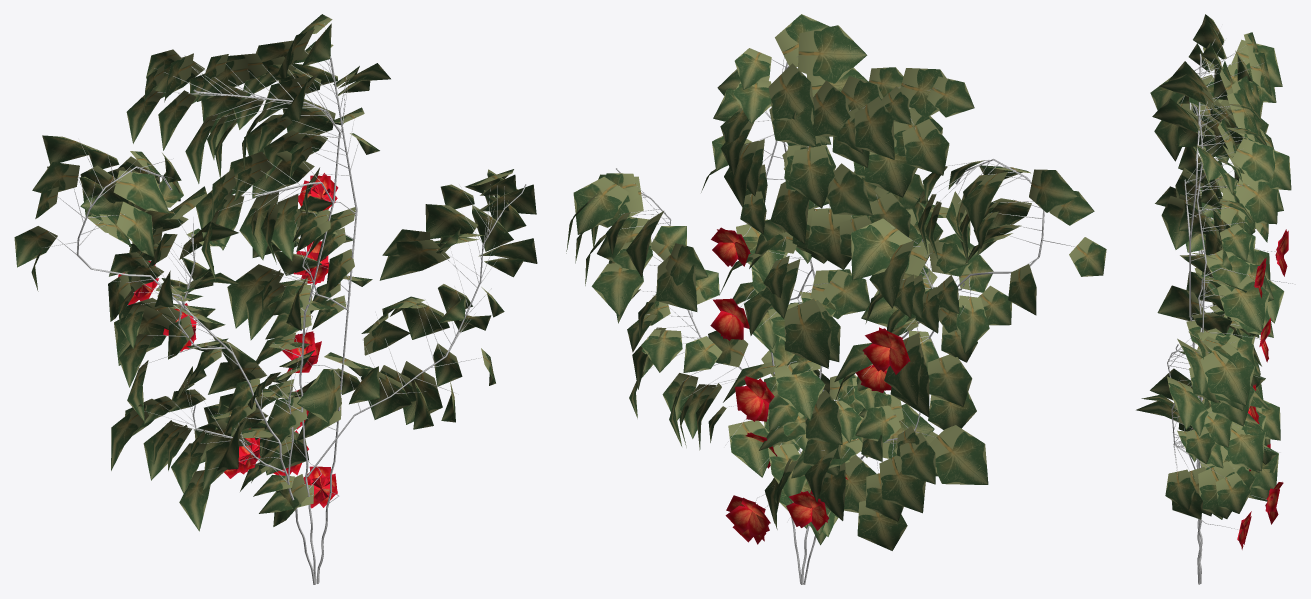
The model's file is SM_Vine01.fbx.
The picture shows the model from 3 angles, left to right: view 1: azimuth 30°, elevation 25°; view 2: azimuth 150°, elevation 25°; view 3: azimuth 270°, elevation 25°; orthographic projection. The views are drawn at different scales.
Visible parts, largest first — view 1: SM_Vine01_LOD0; view 2: SM_Vine01_LOD0; view 3: SM_Vine01_LOD0.
Part boxes in pixels (bbox=[...]): SM_Vine01_LOD0: bbox=[14, 14, 537, 584]; SM_Vine01_LOD0: bbox=[566, 14, 1106, 584]; SM_Vine01_LOD0: bbox=[1136, 14, 1295, 584].
Bounding box in the file's own units: 410 × 122 × 429.
